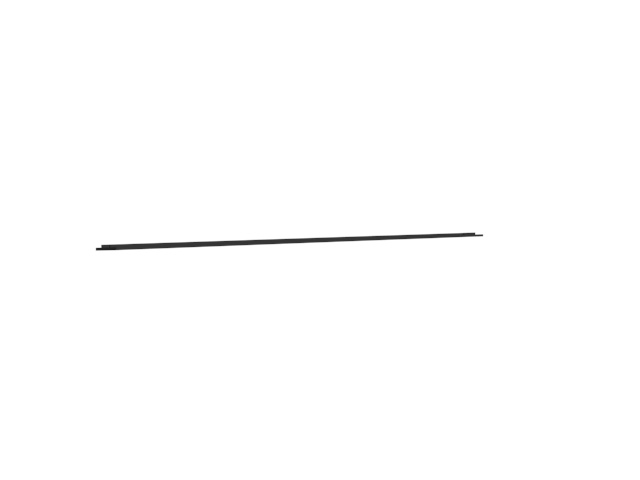ruler: (89, 233, 488, 256)
